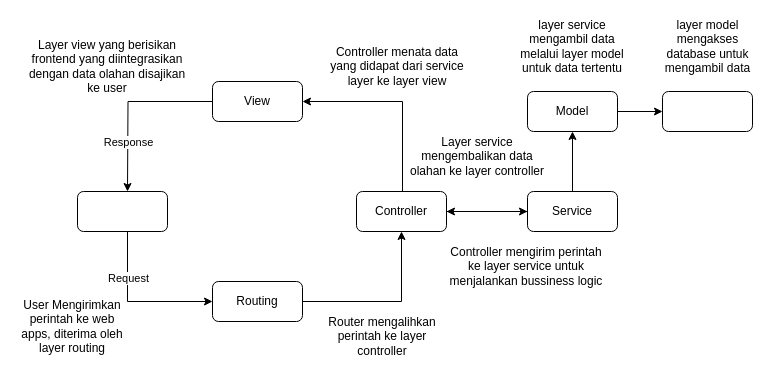
This 782x375 diagram has some shape labels left out. Here are the shapes that lost their labels. From the top down, the box of each, then its label:
(662, 90, 752, 132): Database
(76, 190, 168, 232): User
